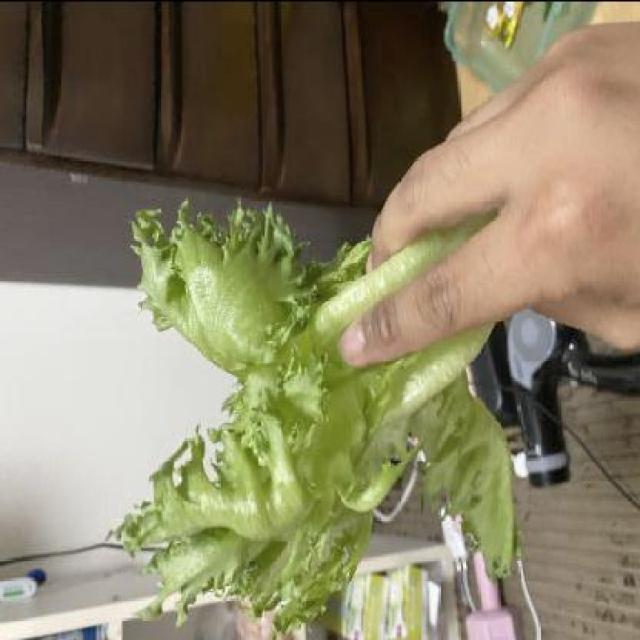Lettuce: (106, 190, 535, 634)
